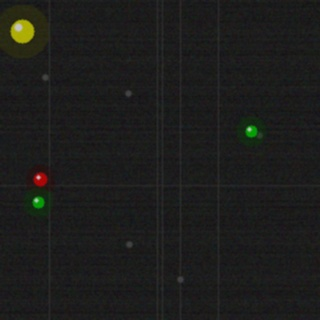green_normal: (30, 194, 46, 210), (243, 123, 259, 139)
red_fault: (31, 170, 49, 188)
yellow_warning: (8, 17, 36, 45)
